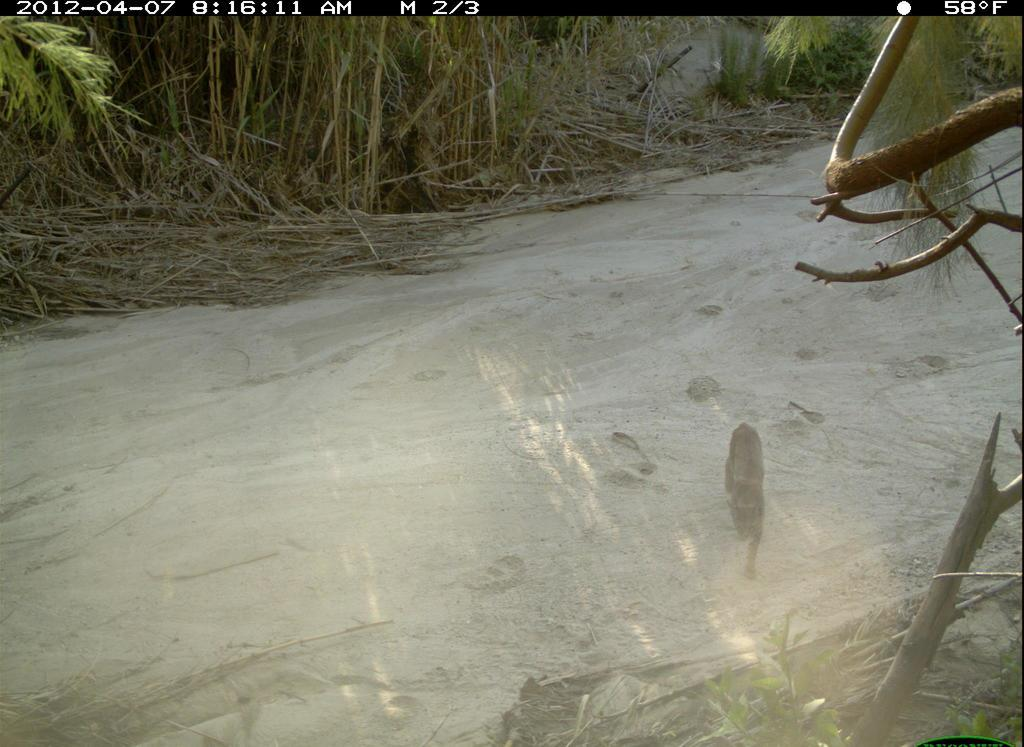bobcat: (716, 417, 770, 584)
